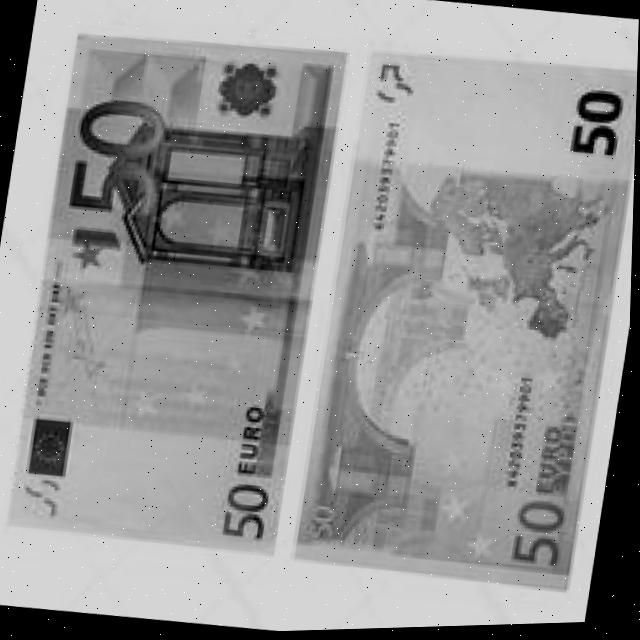banknote: (291, 40, 639, 601), (2, 23, 347, 564), (59, 90, 173, 221), (500, 495, 579, 579), (562, 83, 633, 169), (219, 479, 280, 545)
